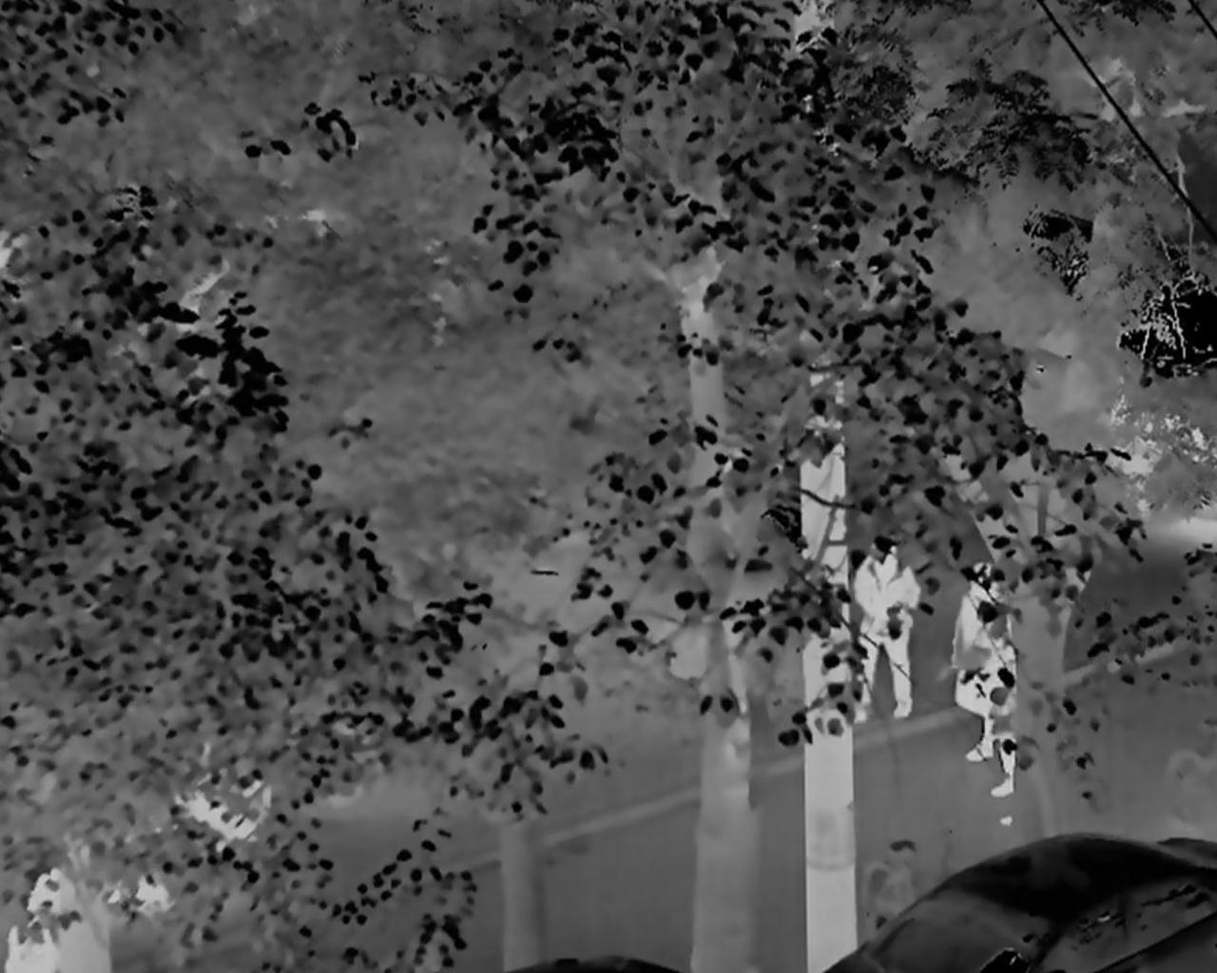person: (949, 563, 1025, 809), (856, 532, 916, 715)
